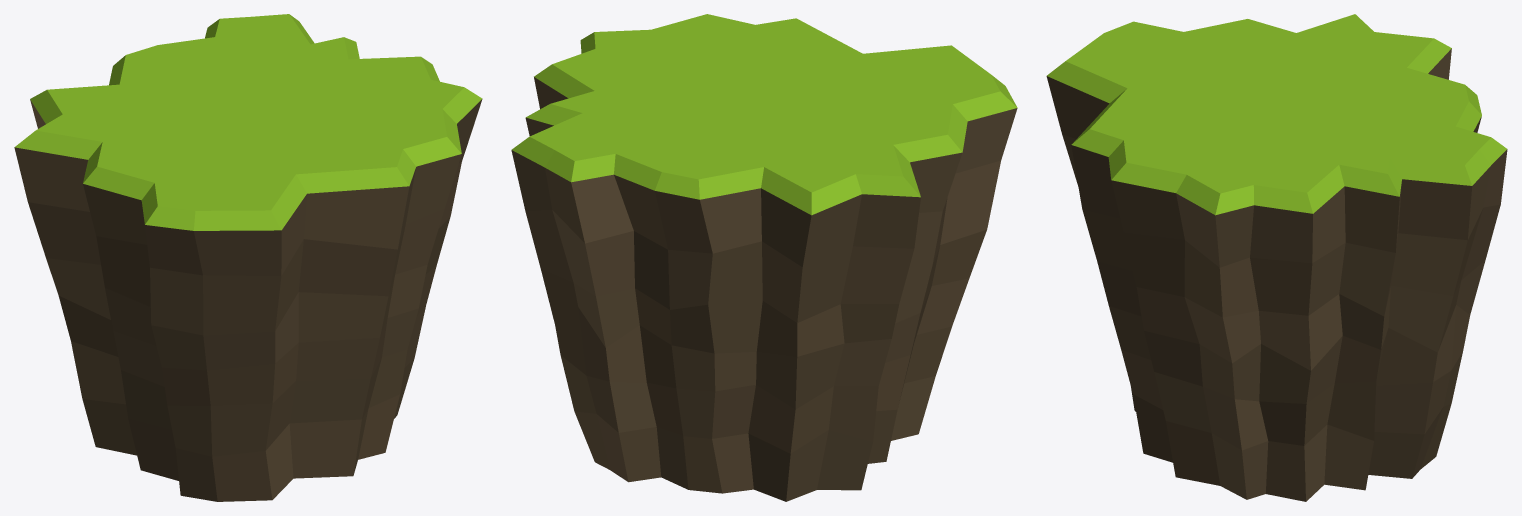
The model's file is Cliff-number-one.glb.
3 renders of one model, left to right at view 1: azimuth 30°, elevation 25°; view 2: azimuth 150°, elevation 25°; view 3: azimuth 270°, elevation 25°, orthographic. The views are drawn at different scales.
Visible parts, largest first — view 1: Plane; view 2: Plane; view 3: Plane.
Part boxes in pixels (x1,y1,x2,y2): Plane: (14, 14, 482, 501); Plane: (511, 14, 1017, 501); Plane: (1046, 14, 1507, 501).
Size of the model in its own units: 2.46 by 1.93 by 2.4.
1 material, 1 textured.
